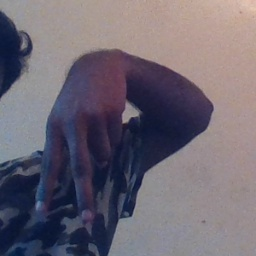Y: (35, 63, 131, 225)
